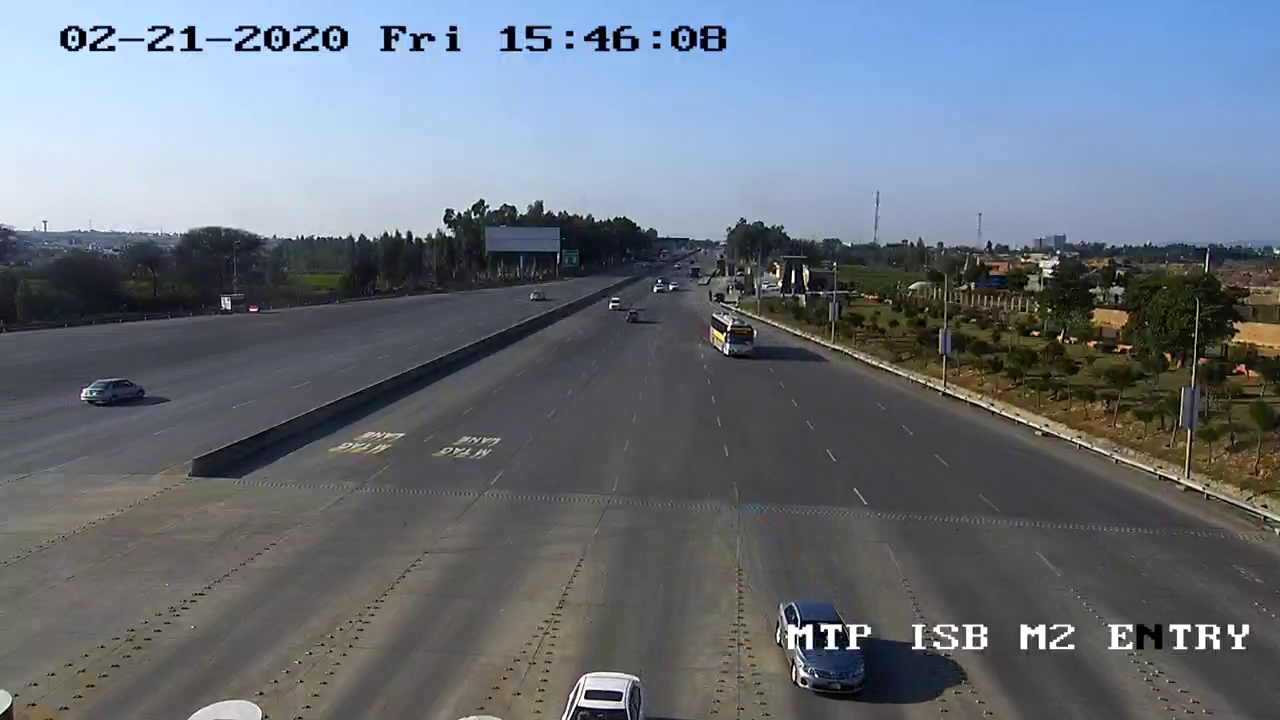f4: (695, 307, 766, 375)
